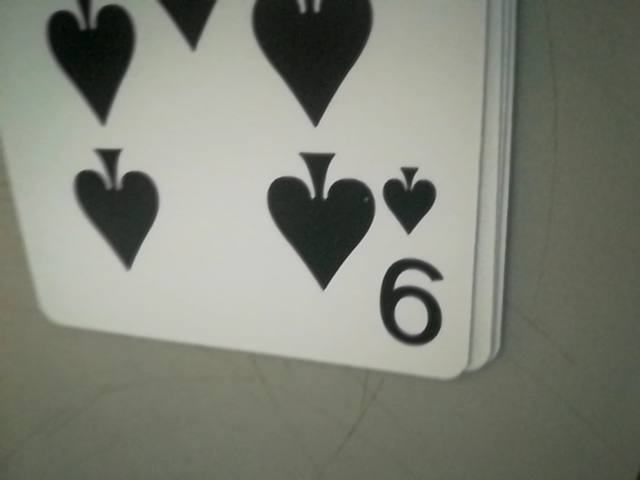ht 9: (378, 168, 460, 357)
